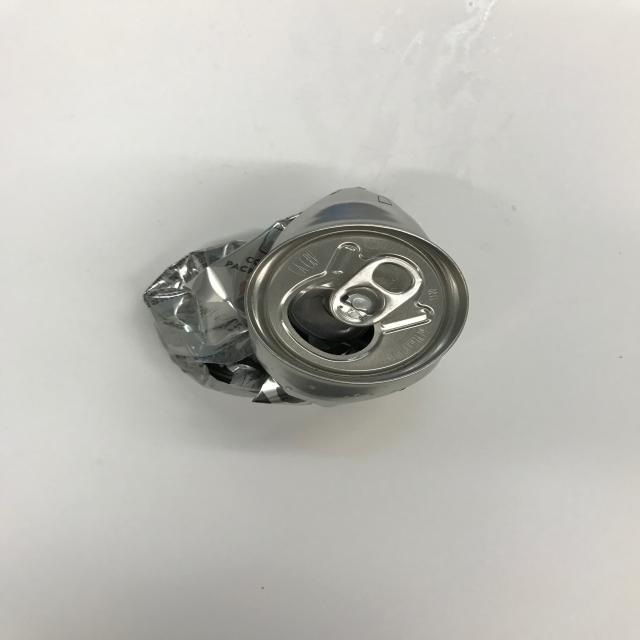metal: (142, 186, 471, 407)
